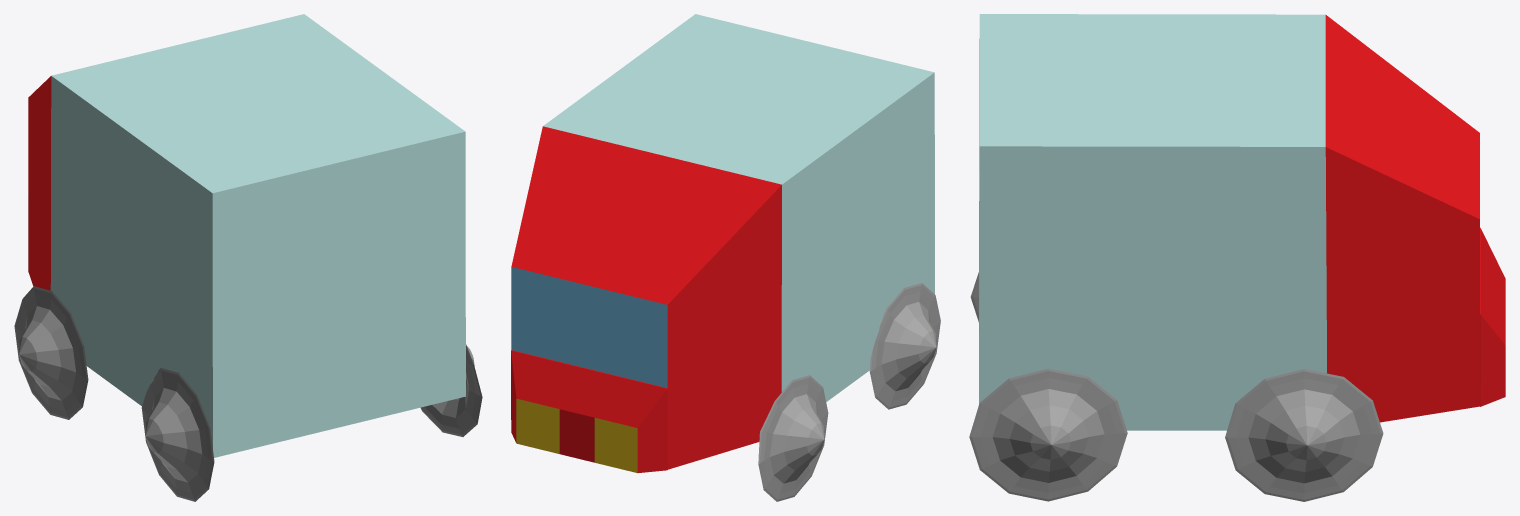
The model's file is cruck.glb.
3 views of the same model, side by side, from view 1: azimuth 30°, elevation 25°; view 2: azimuth 150°, elevation 25°; view 3: azimuth 270°, elevation 25° (orthographic). The views are drawn at different scales.
Parts seen in each view (by area): view 1: Cube, Cube.001, Cube.004, Cube.003; view 2: Cube, Cube.001, Cube.004; view 3: Cube, Cube.002, Cube.003.
Part boxes in pixels (x1,y1,x2,y2): Cube: [28, 14, 465, 457]; Cube.001: [14, 286, 88, 419]; Cube.004: [141, 368, 214, 501]; Cube.003: [420, 344, 482, 436]; Cube: [511, 14, 934, 473]; Cube.001: [758, 375, 828, 501]; Cube.004: [869, 283, 940, 409]; Cube: [979, 14, 1505, 430]; Cube.002: [1225, 369, 1383, 501]; Cube.003: [969, 368, 1127, 501].
Size of the model in its own units: 0.9283 by 0.8901 by 1.21.
